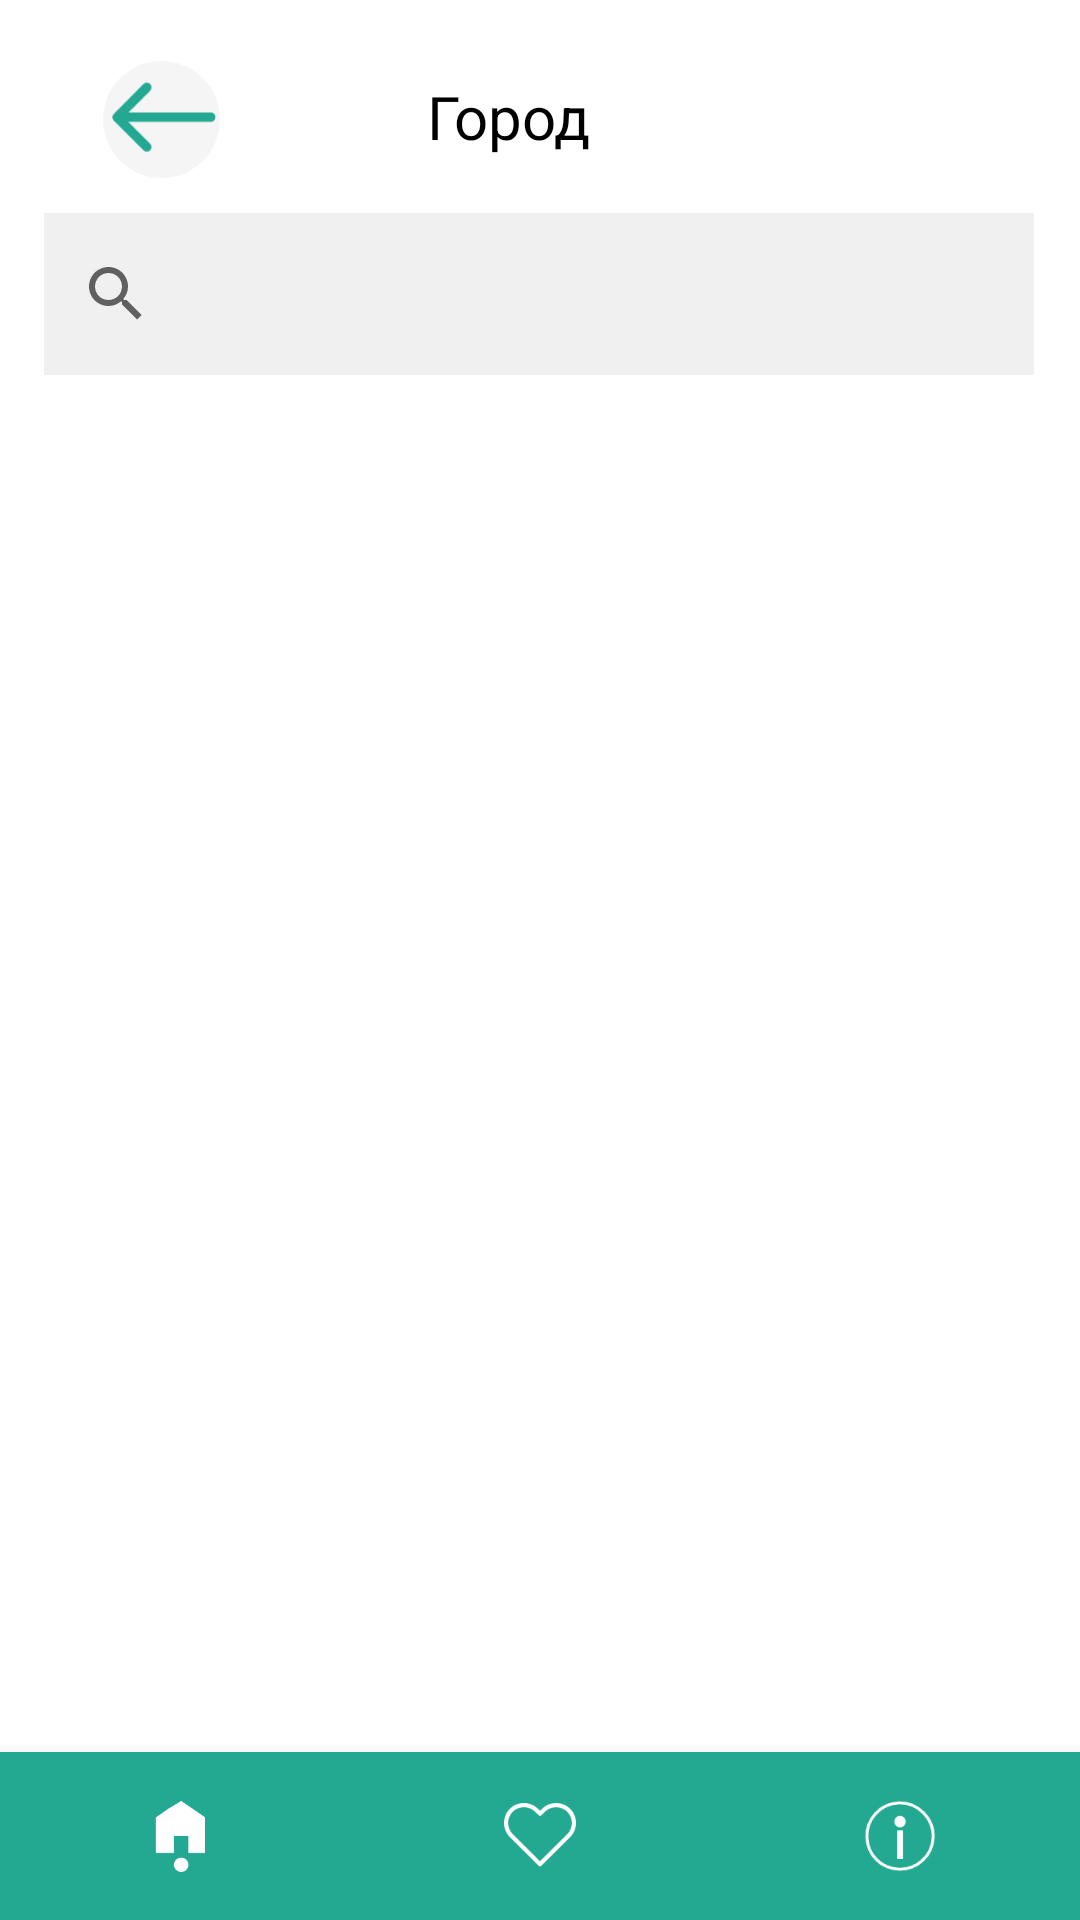

Named icons in this screenshot (1080px x 1920px) and their bounding boxes, (x1, y1, x2, y2):
back: (103, 61, 220, 178)
